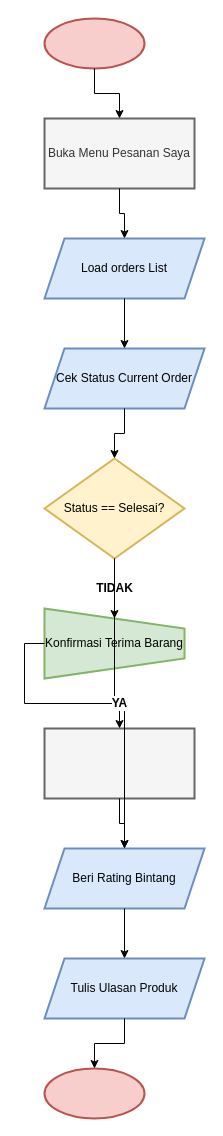
Some shapes in this 223 by 1136 pixel diagram are drawn without their labels. Here are the shapes that lost their labels. From the top down, the centre of each, then its label:
At (94,43): "START".
At (119,763): "Update status = Selesai".
At (94,1093): "END".
